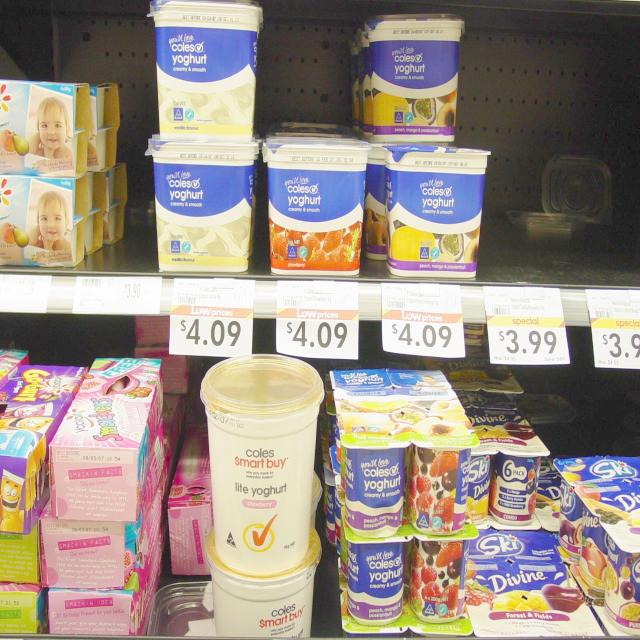empty_space: (491, 18, 637, 274)
